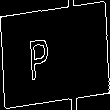P_N: (43, 28, 67, 82)
